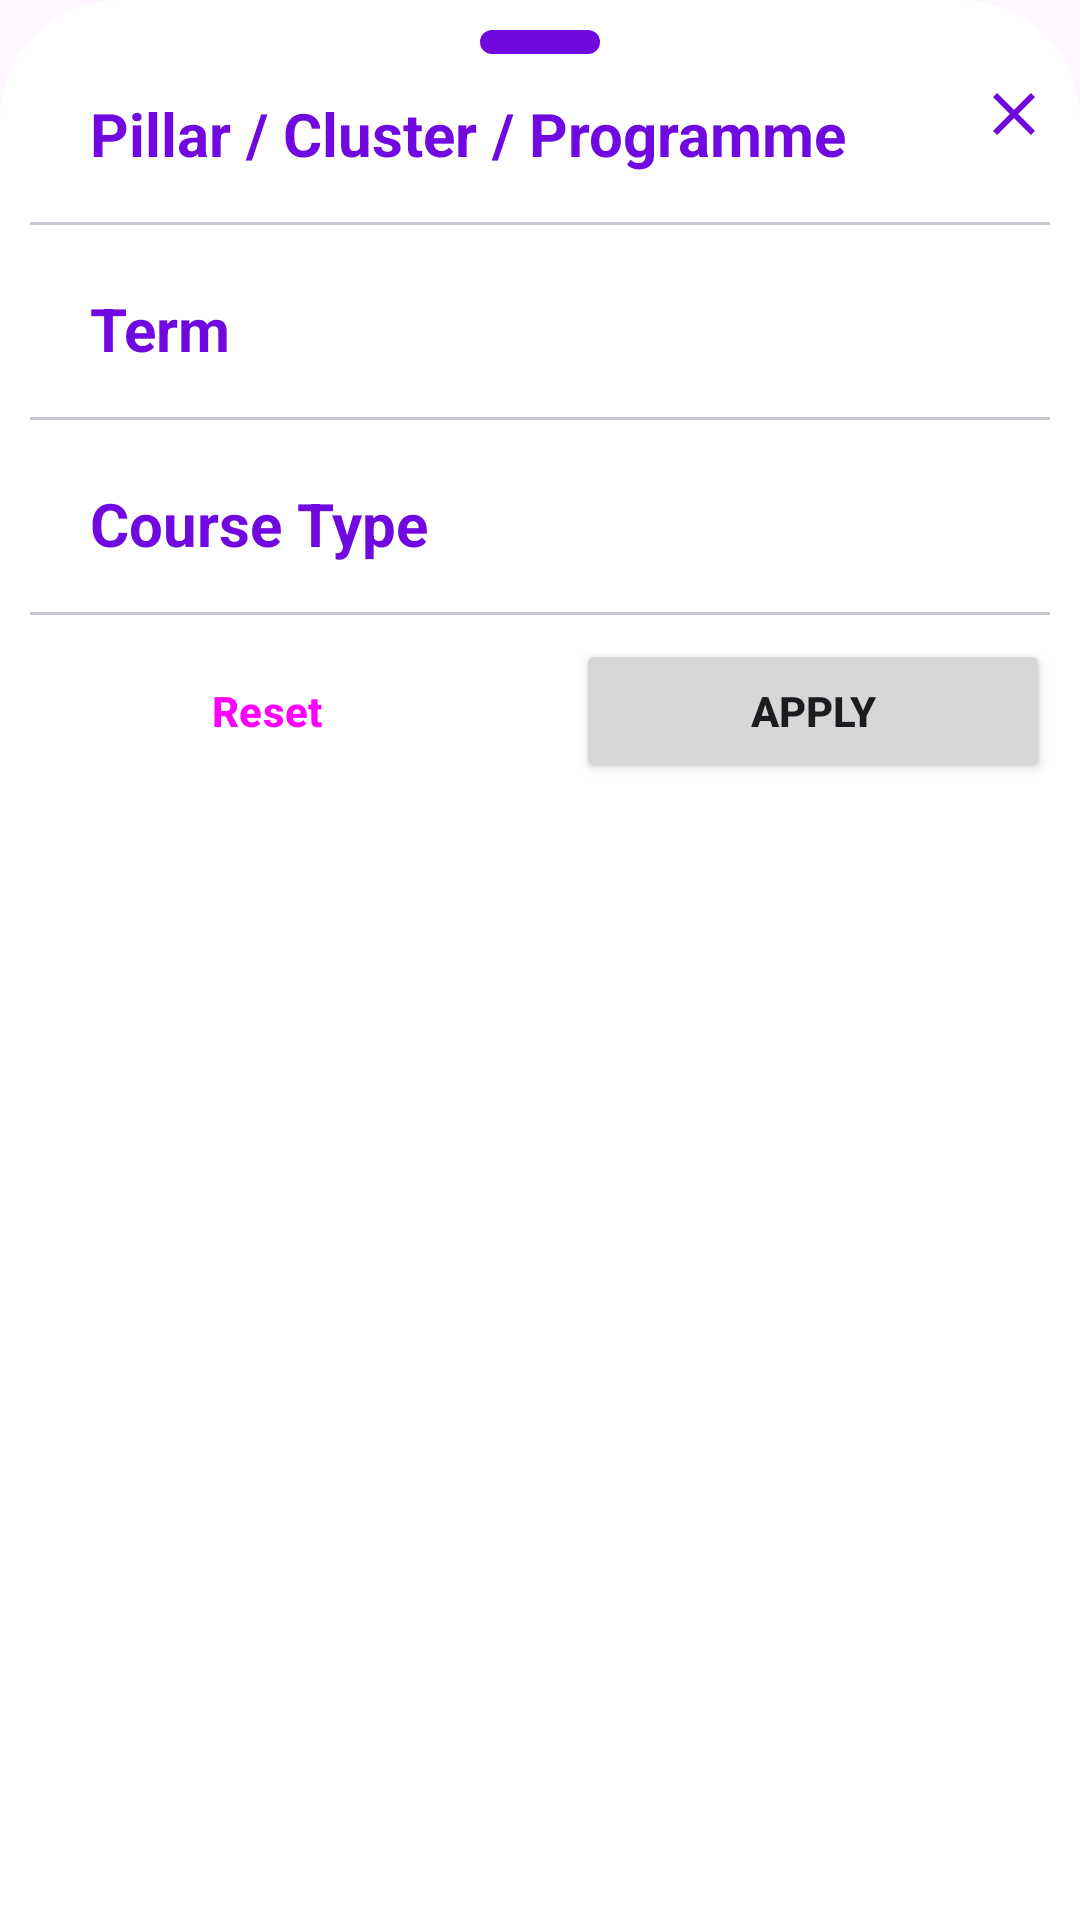

Icons on this 1080×1920 Android screen, each with its box as (x1, y1, x2, y2):
close: (993, 93, 1035, 135)
